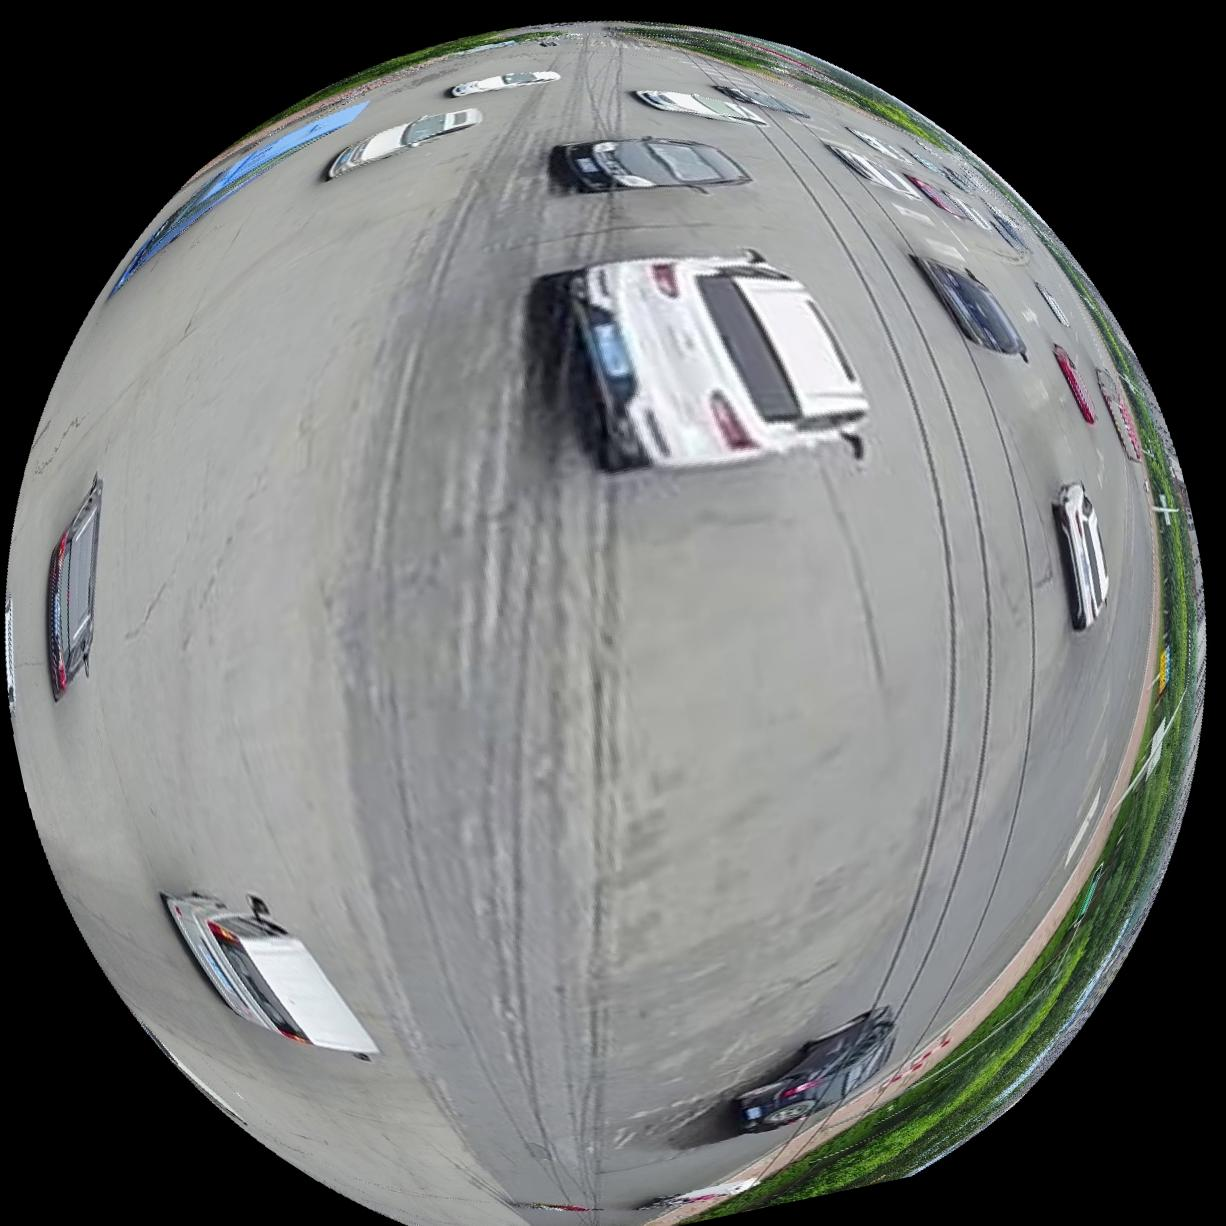cars: (546, 250, 869, 473), (108, 100, 367, 296), (163, 896, 377, 1063), (736, 1008, 897, 1137), (44, 476, 100, 701), (914, 255, 1027, 360), (550, 136, 749, 193), (326, 107, 481, 177), (1053, 482, 1110, 632), (830, 141, 921, 199), (633, 89, 766, 123), (1097, 368, 1144, 463), (1054, 344, 1098, 424), (715, 83, 809, 118), (448, 68, 559, 97), (0, 586, 13, 721), (1037, 281, 1070, 327)
trees: (680, 394, 1205, 1225)
